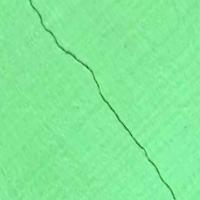crack: (28, 0, 180, 199)
